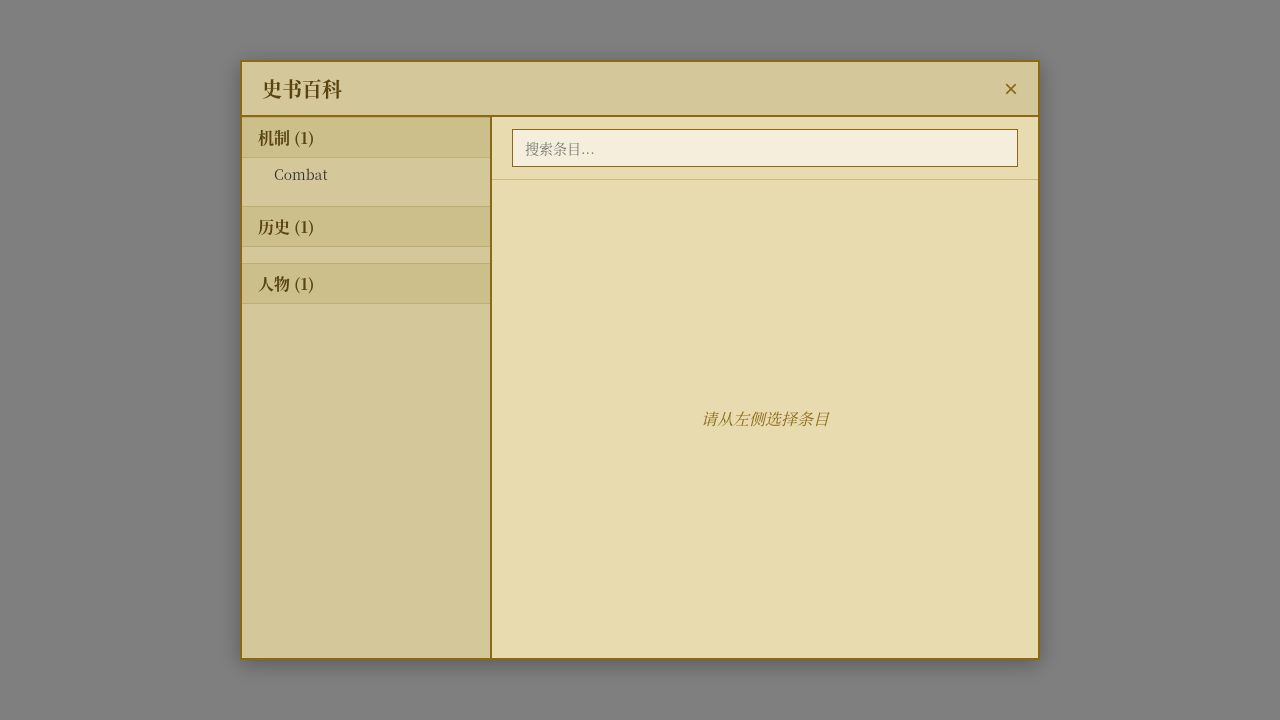
CodexPanel › filters entries by search query
Type "combat" into the field with test id "codex-search-input".
click(765, 148); type("combat")  # box top-left (512, 129), bottom-right (1018, 167)
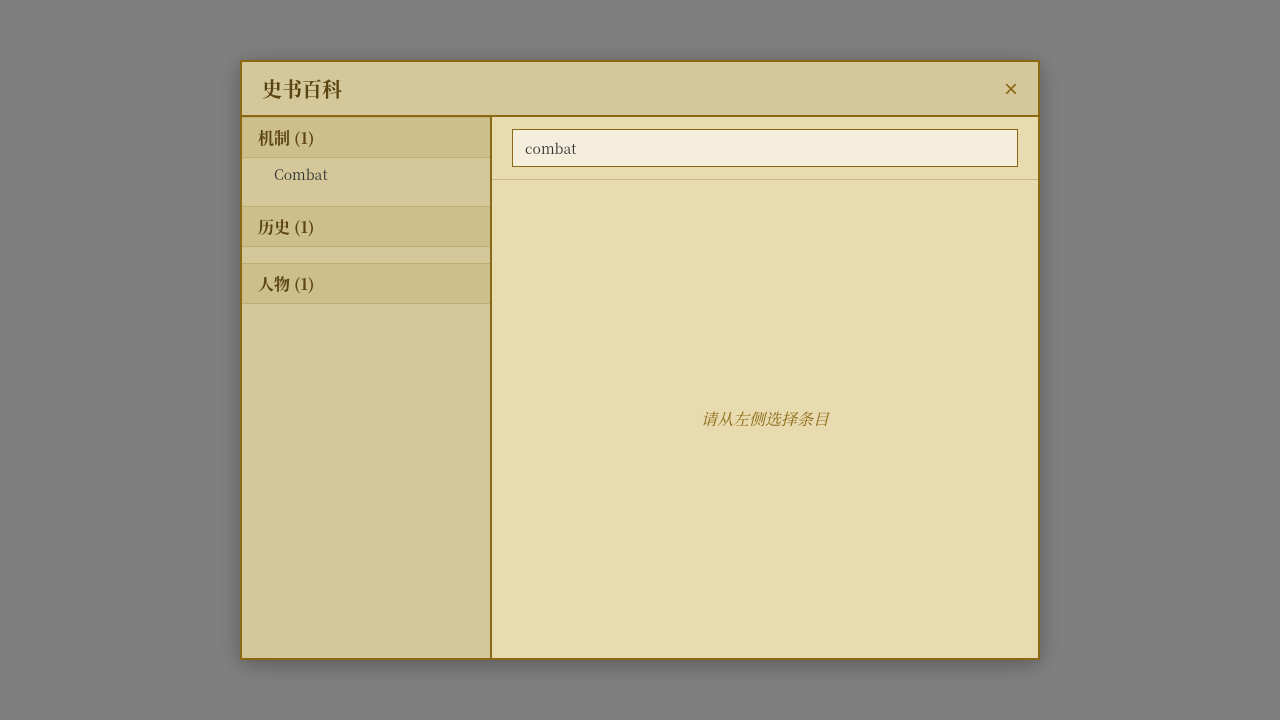
Expected: the text "Combat" is shown, top-left (274, 164), bottom-right (328, 184)
Replace the text in the field with test id "codex-search-input" with "nonexistent" at (765,148), box top-left (512, 129), bottom-right (1018, 167)
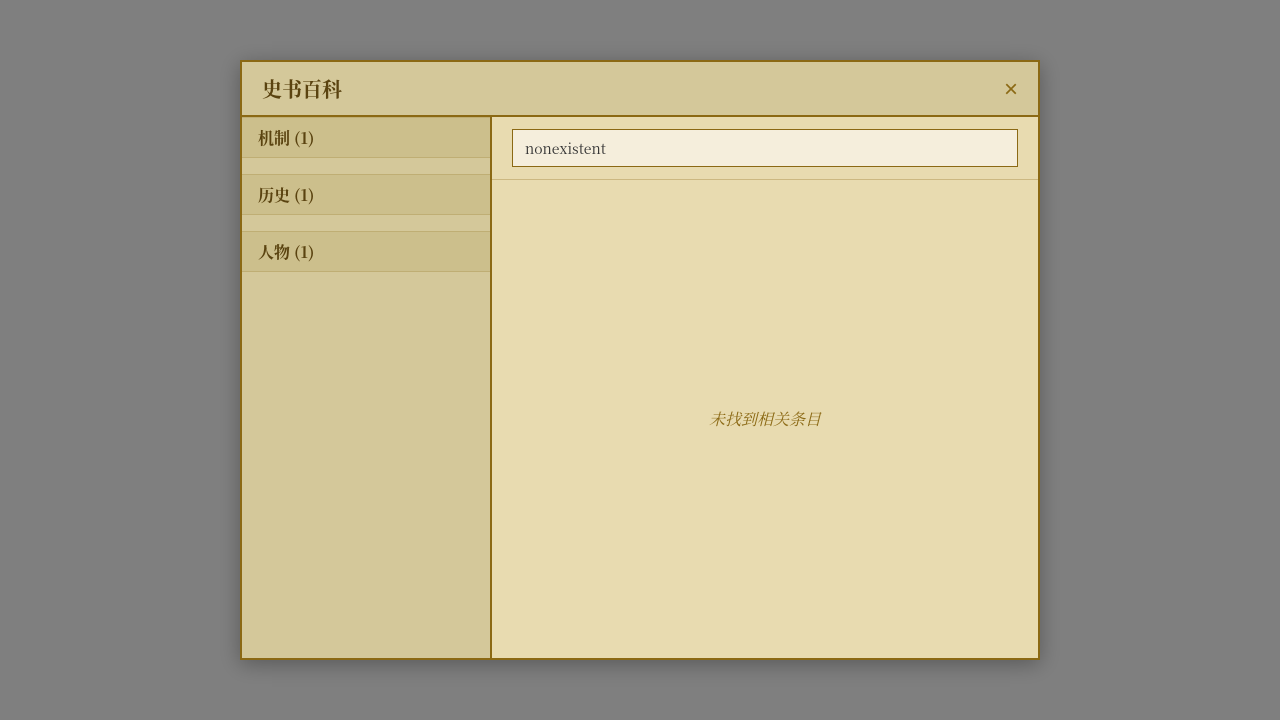
Result: the text with test id "codex-entry-mech-1" is gone
Result: the text with test id "codex-search-empty" reads "未找到相关条目" at top-left (709, 407), bottom-right (821, 430)
